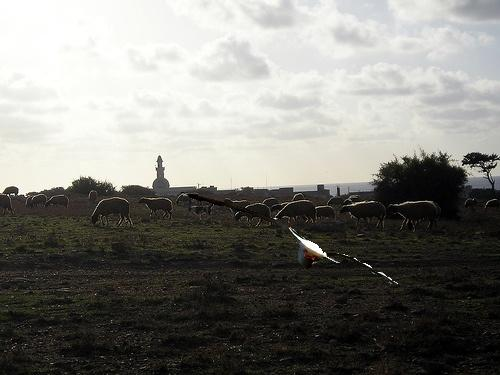tampered: (181, 193, 398, 285)
